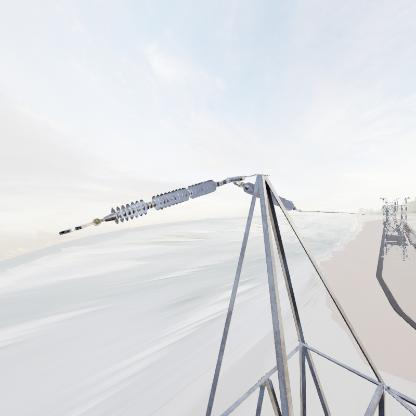insulator: (106, 177, 220, 224)
